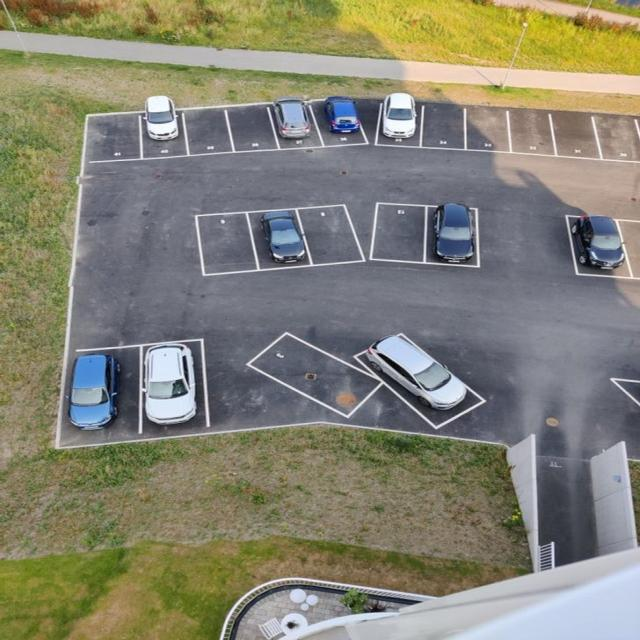discapacitados: (255, 337, 367, 409)
libre: (420, 96, 640, 175), (299, 201, 435, 272), (194, 94, 272, 147), (75, 107, 147, 162), (185, 216, 248, 272)
ocupado: (64, 348, 209, 440), (365, 340, 488, 429), (277, 86, 420, 153), (567, 211, 629, 277), (125, 96, 189, 158), (431, 196, 479, 274), (257, 206, 308, 267)
